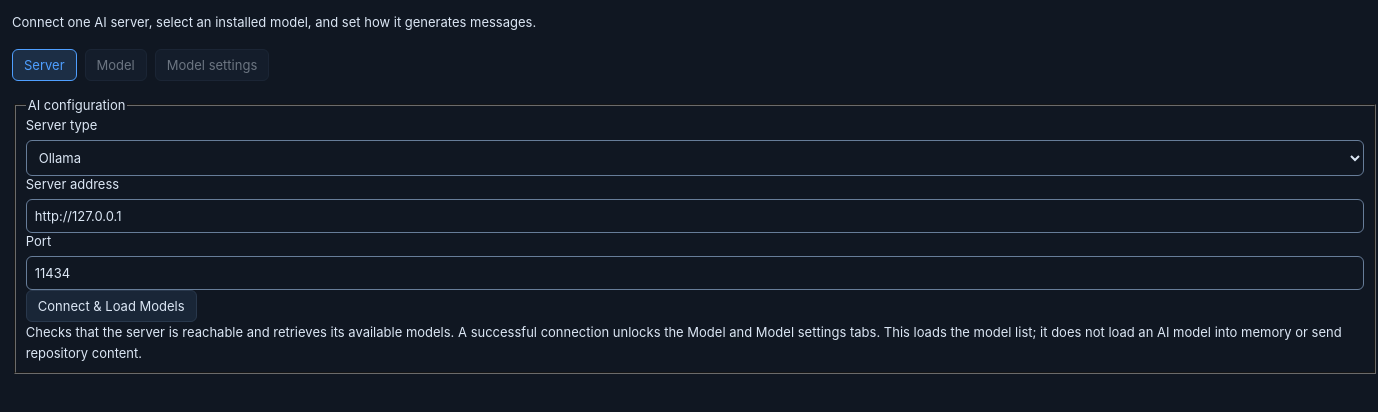
Scenario: unlocks tabs after connecting and preserves edits with keyboard navigation
The width and height of the screenshot is (1378, 412).
Later steps or results of the test are not shown.
Expected: the field labelled "Server address" is shown, [26,199,1364,233]
Step 1. Click the tab "Server" → {"x": 44, "y": 65}, box [12,49,76,81]
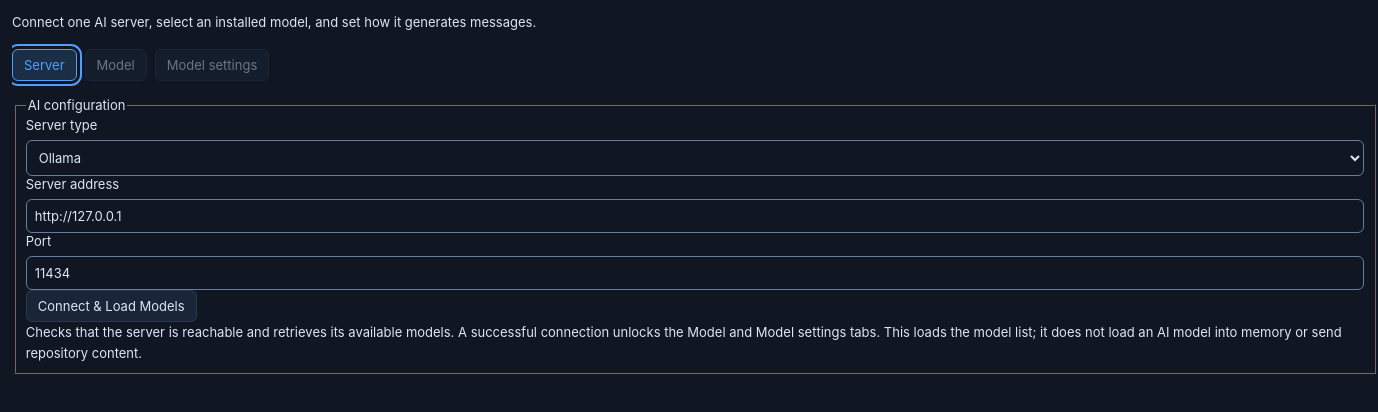
Step 2. Click the button "Connect & Load Models" → {"x": 111, "y": 306}, box [26,290,197,322]
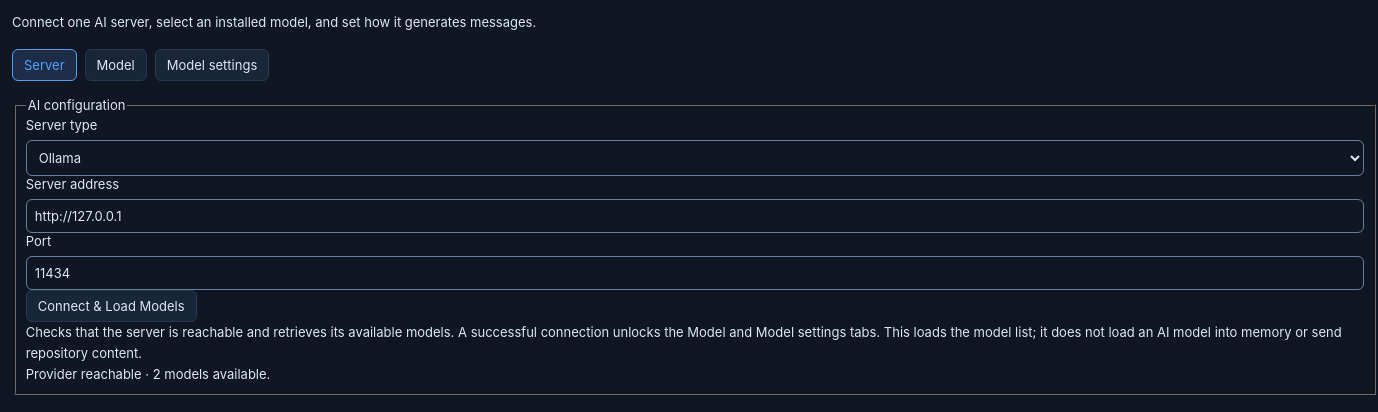
Now the text "Provider reachable · 2 models available." is shown, box [26,366,270,382]
